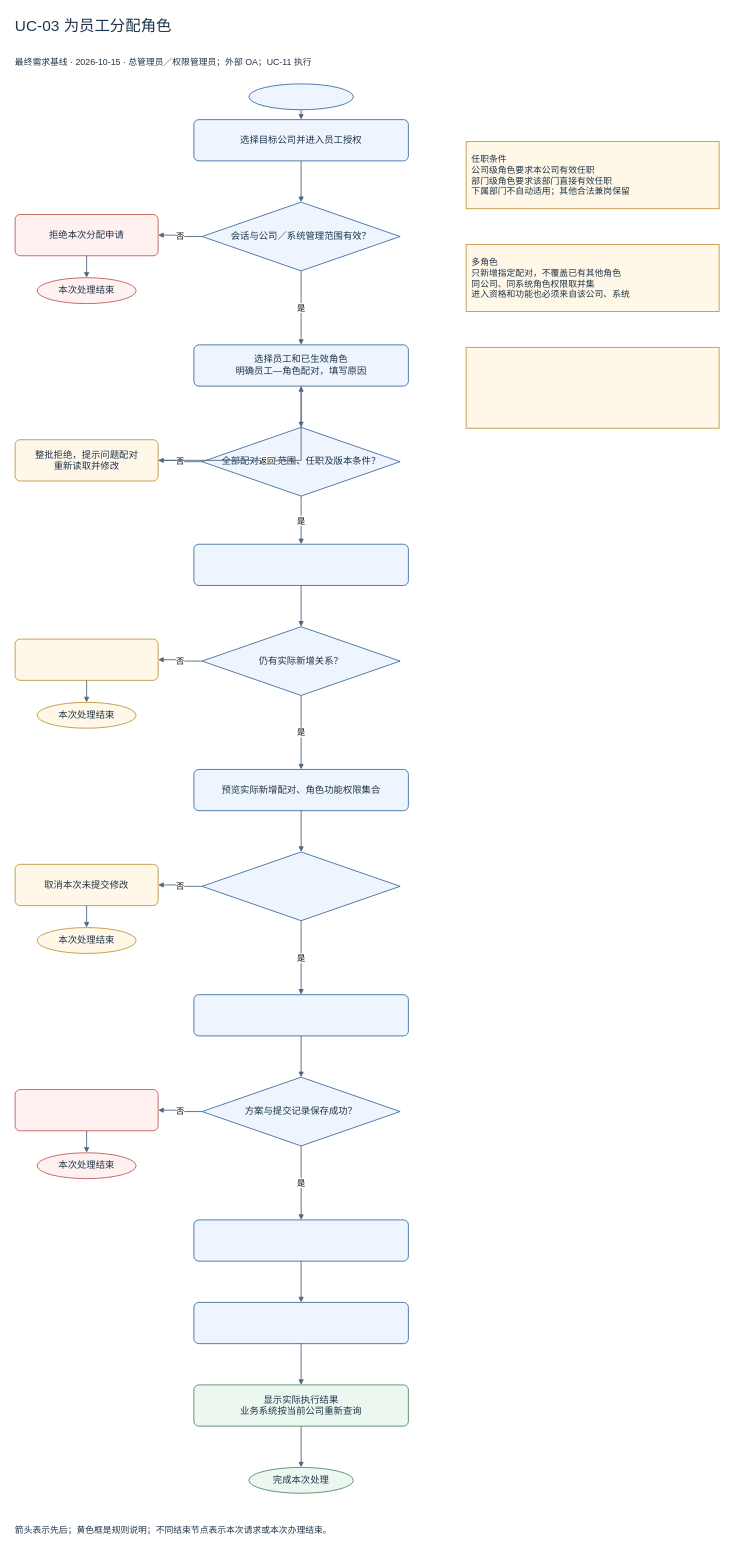
Some shapes in this 745 by 1552 pixel diagram are drawn without their labels. Here are the shapes that lost their labels. From the top down, the centre of each, then its label:
the point at 301,96: 开始
the point at 592,387: 申请与失效 同一目标关系的未结束申请禁止重叠 角色或授权资格版本变化时旧批准不能强行执行 失效后需新申请，不能复活旧记录 批量一项不合法则整批不执行
the point at 301,565: 排除已有相同有效授权 失效历史不阻止重新申请
the point at 86,659: 返回无变化，不提交 OA
the point at 300,886: 确认提交角色分配申请？
the point at 301,1015: 复核并固定新增清单、角色版本 原资格来源、关系版本与原因
the point at 86,1110: 整批回滚，原授权不变
the point at 301,1240: 关联 OA，显示待审批 提交本身不新增授权
the point at 301,1323: OA 返回最终结果，转 UC-11 批准后复核并整体执行合法新增
